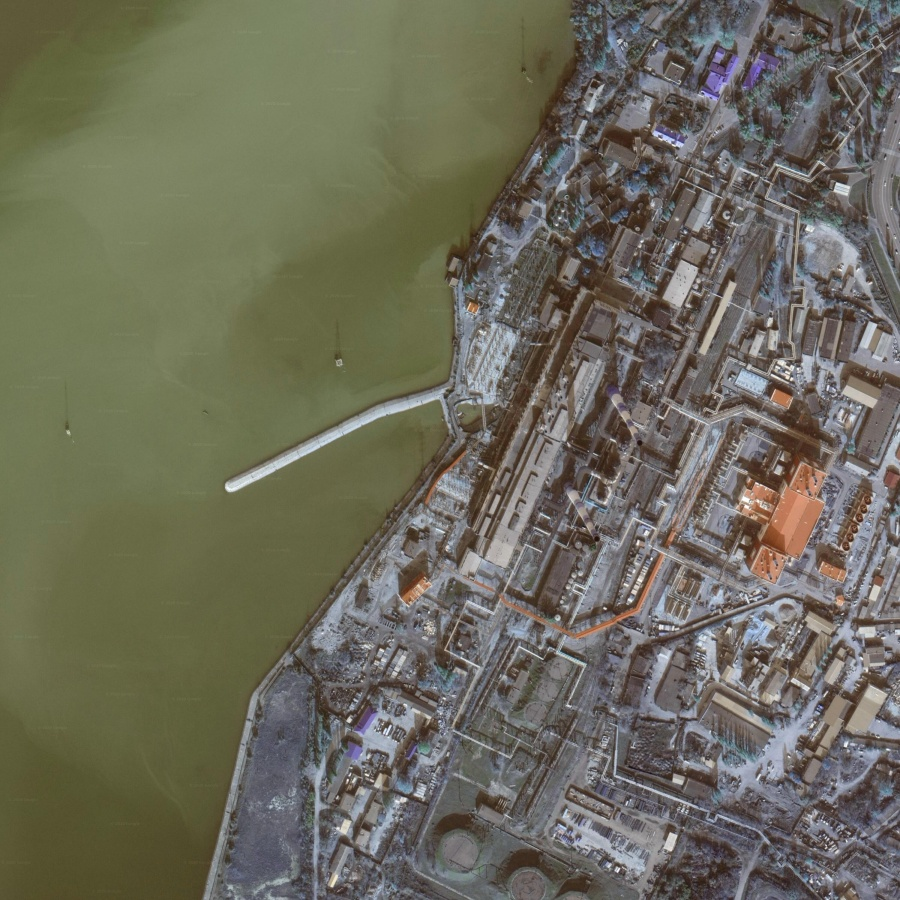PowerPlant: (430, 235, 704, 644)
